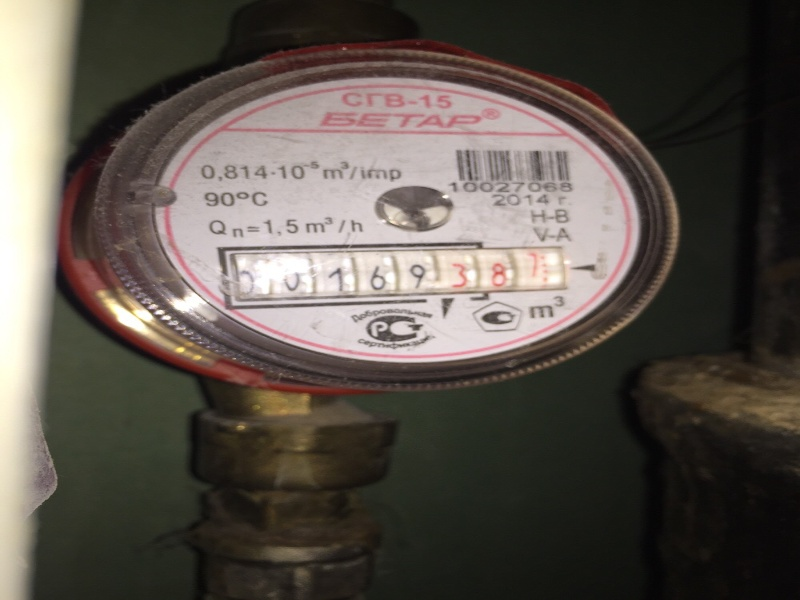meter: (214, 244, 561, 291)
